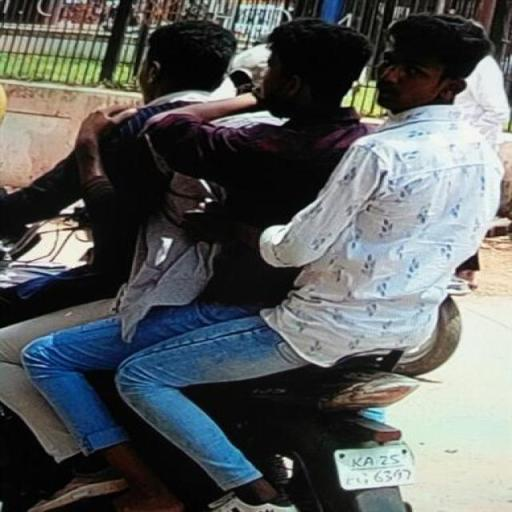tripple riding: (4, 9, 512, 385)
